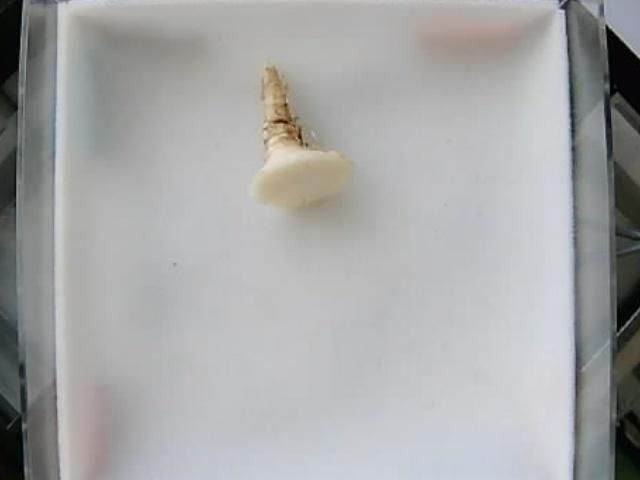Mooli: (253, 61, 355, 212)
